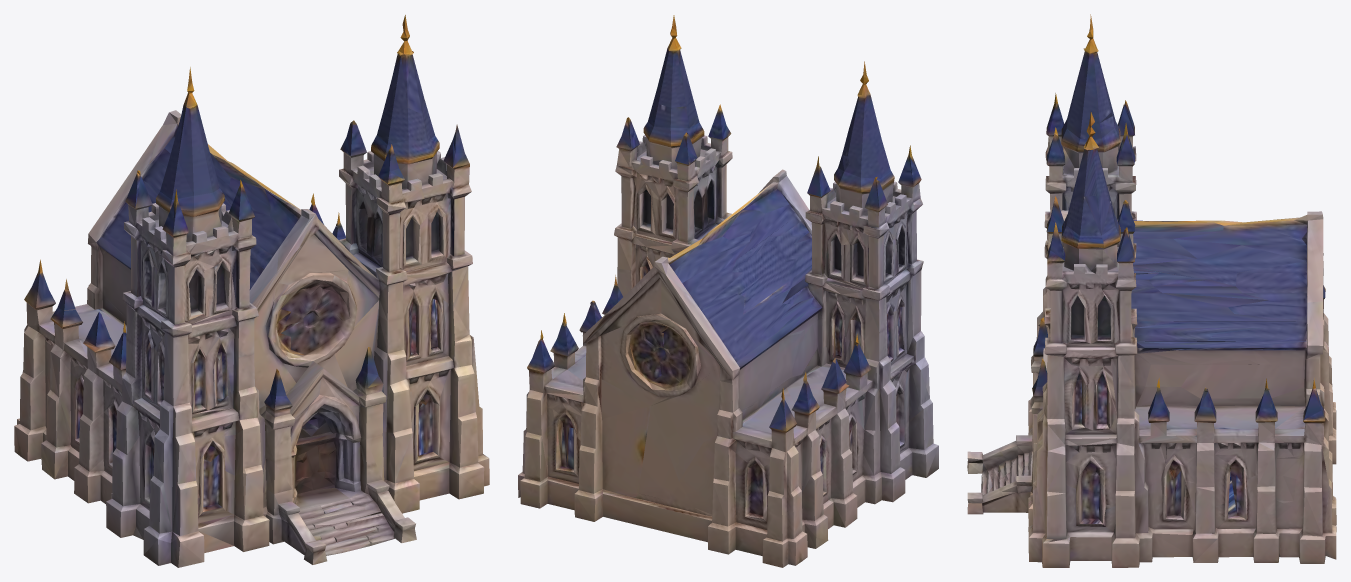
File: oc_cathedral.glb
3 views of the same model, side by side, from view 1: azimuth 30°, elevation 25°; view 2: azimuth 150°, elevation 25°; view 3: azimuth 270°, elevation 25° (orthographic). The views are drawn at different scales.
Visible parts, largest first — view 1: W_cathedral_facade; view 2: W_cathedral_facade; view 3: W_cathedral_facade.
Part boxes in pixels (box(x1,y1,x2,y2)): W_cathedral_facade: box(14, 15, 489, 567); W_cathedral_facade: box(518, 15, 938, 567); W_cathedral_facade: box(967, 14, 1336, 567).
Size of the model in its own units: 33.49 by 45.01 by 34.96.
Materials: 1 (1 with a texture image).
